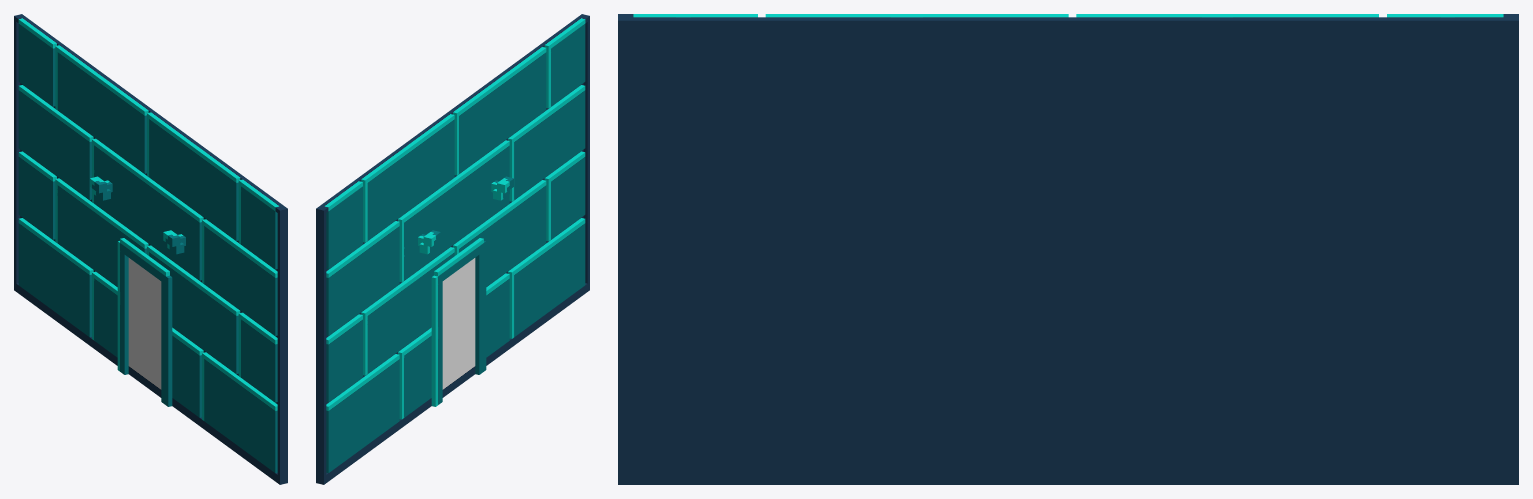
File: EntranceDoorShortWall.glb
The picture shows the model from 3 angles, left to right: view 1: azimuth 30°, elevation 25°; view 2: azimuth 150°, elevation 25°; view 3: azimuth 270°, elevation 25°; orthographic projection. The views are drawn at different scales.
Parts seen in each view (by area): view 1: EntranceDoorShortWall; view 2: EntranceDoorShortWall; view 3: EntranceDoorShortWall.
Boxes of the visible parts, x1,y1,x2,y2 form: EntranceDoorShortWall: (14,14,287,484); EntranceDoorShortWall: (316,14,589,484); EntranceDoorShortWall: (618,14,1518,484).
Size of the model in its own units: 0.6 by 6.6 by 11.6.
Materials: 1 (1 with a texture image).
